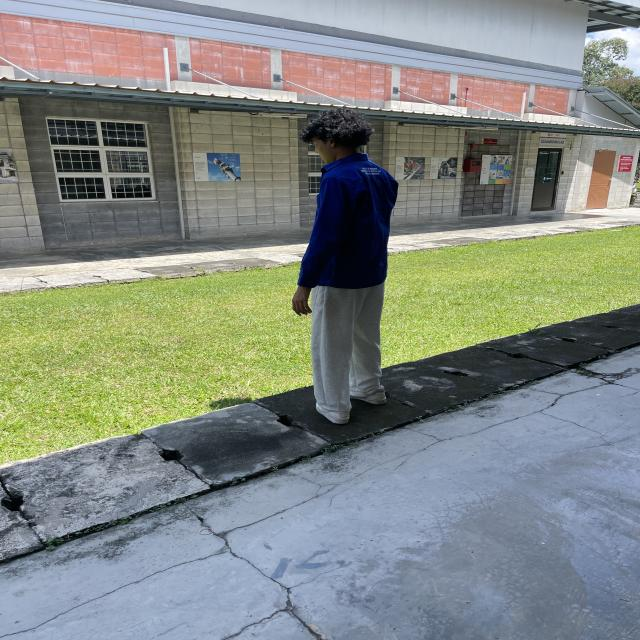person_with_labcoat: (292, 109, 398, 424)
